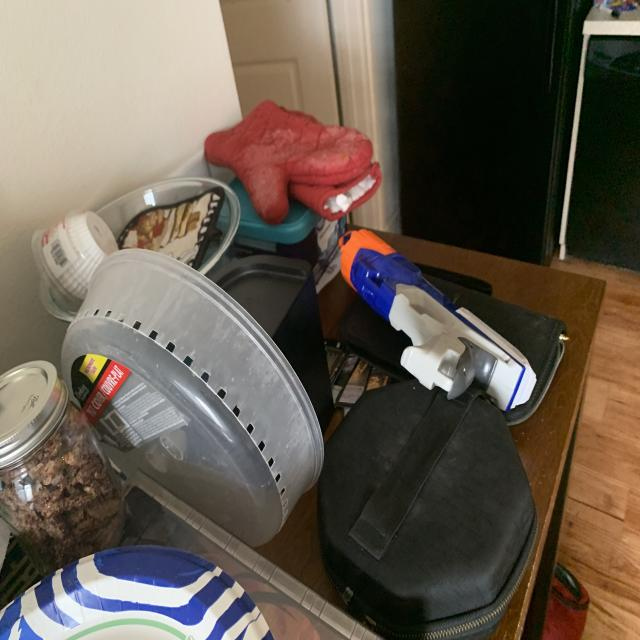nerf-maverik: (328, 206, 547, 430)
